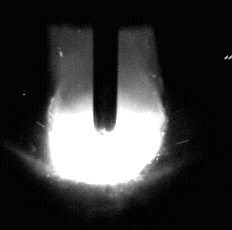arame: (94, 0, 119, 131)
poca: (46, 0, 166, 230)
